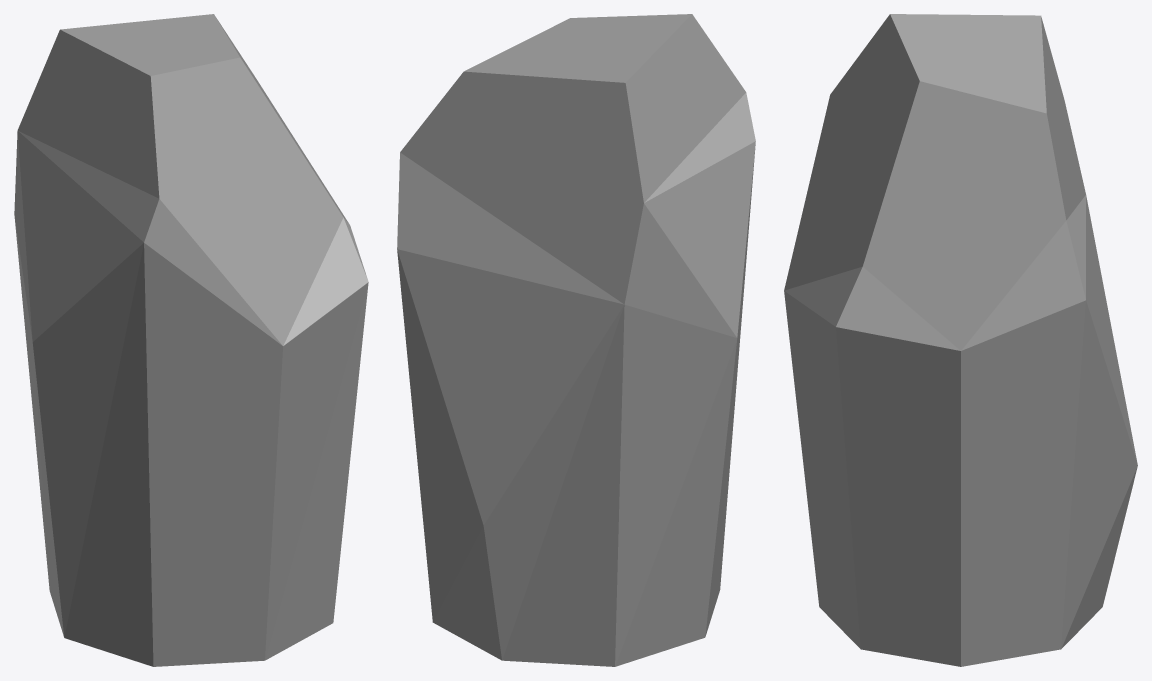
File: rock_17.fbx
The picture shows the model from 3 angles, left to right: view 1: azimuth 30°, elevation 25°; view 2: azimuth 150°, elevation 25°; view 3: azimuth 270°, elevation 25°; orthographic projection. The views are drawn at different scales.
Parts seen in each view (by area): view 1: rock_17; view 2: rock_17; view 3: rock_17.
Part boxes in pixels (box(x1,y1,x2,y2)): rock_17: box(14, 14, 368, 666); rock_17: box(397, 14, 755, 666); rock_17: box(784, 14, 1137, 666).
Bounding box in the file's own units: 111 × 193 × 111.
